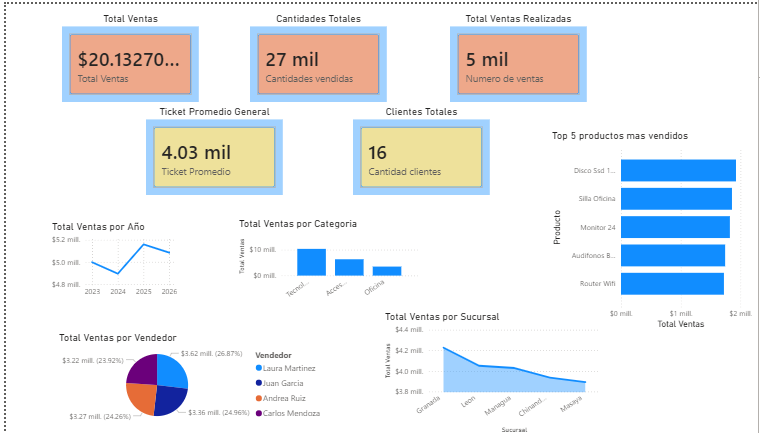

This screenshot's page, from the dashboard's own definition file:
{"tool":"powerbi","page":{"name":"Resumen ejecutivo","canvas":[1280,720],"ordinal":0},"visuals":[{"type":"cardVisual","title":"Total Ventas","fields":{"Data":["FactVentas.Total Ventas"]},"box":[88.6,12.9,238.6,155.7],"z":0},{"type":"cardVisual","title":"Cantidades Totales","fields":{"Data":["FactVentas.Cantidades vendidas"]},"box":[401.4,12.9,238.6,155.7],"z":1000},{"type":"cardVisual","title":"Total Ventas Realizadas","fields":{"Data":["FactVentas.Numero de ventas"]},"box":[734.3,12.9,238.6,155.7],"z":2000},{"type":"cardVisual","title":"Clientes Totales","fields":{"Data":["FactVentas.Cantidad clientes"]},"box":[572.9,168.6,238.6,155.7],"z":3000},{"type":"cardVisual","title":"Ticket Promedio General","fields":{"Data":["FactVentas.Ticket Promedio"]},"box":[228.6,168.6,238.6,155.7],"z":4000},{"type":"lineChart","fields":{"Category":["DimFecha.Fecha.Variación.Jerarquía de fechas.Año","DimFecha.Fecha.Variación.Jerarquía de fechas.Mes"],"Y":["FactVentas.Total Ventas"]},"box":[71.7,360,218.3,136.7],"z":5000},{"type":"clusteredColumnChart","fields":{"Category":["DimCategoria.Categoria"],"Y":["FactVentas.Total Ventas"]},"box":[383.3,355,308.3,146.7],"z":6000},{"type":"clusteredBarChart","title":"Top 5 productos mas vendidos","fields":{"Category":["DimProductos.Producto"],"Y":["FactVentas.Total Ventas"]},"box":[905,207.5,343.3,338.3],"z":7000},{"type":"pieChart","fields":{"Category":["DimVendedor.Vendedor"],"Y":["FactVentas.Total Ventas"]},"box":[83.3,545,455,161.2],"z":8000},{"type":"areaChart","fields":{"Category":["DimSucursal.Sucursal"],"Y":["FactVentas.Total Ventas"]},"box":[626,510,367.5,210],"z":9000}]}

Visuals, with their boxes in screenshot pixels (x1, y1, x2, y2), scaled from the page's 1280x720 canvas onto the 760x433 screenshot:
"Total Ventas" cardVisual: <box>53,8,194,101</box>
"Cantidades Totales" cardVisual: <box>238,8,380,101</box>
"Total Ventas Realizadas" cardVisual: <box>436,8,578,101</box>
"Clientes Totales" cardVisual: <box>340,101,482,195</box>
"Ticket Promedio General" cardVisual: <box>136,101,277,195</box>
lineChart - DimFecha.Fecha.Variación.Jerarquía de fechas.Año x DimFecha.Fecha.Variación.Jerarquía de fechas.Mes: <box>43,216,172,299</box>
clusteredColumnChart - DimCategoria.Categoria x FactVentas.Total Ventas: <box>228,213,411,302</box>
"Top 5 productos mas vendidos" clusteredBarChart: <box>537,125,741,328</box>
pieChart - DimVendedor.Vendedor x FactVentas.Total Ventas: <box>49,328,320,425</box>
areaChart - DimSucursal.Sucursal x FactVentas.Total Ventas: <box>372,307,590,432</box>
